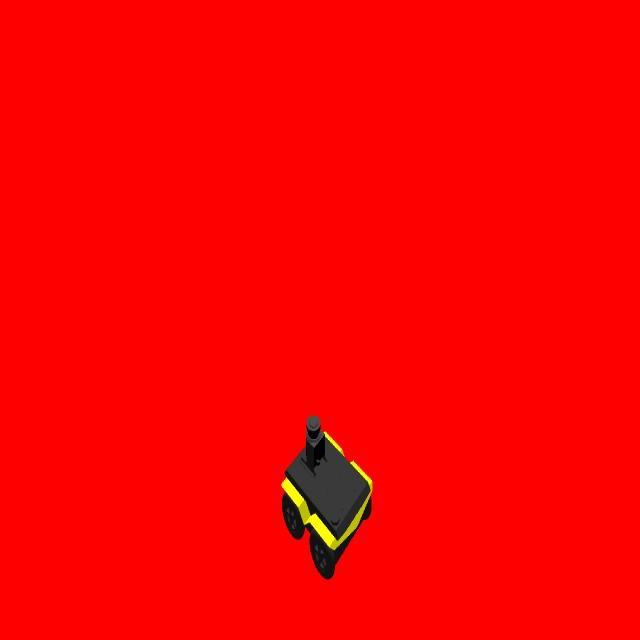jackal: (276, 409, 375, 582)
